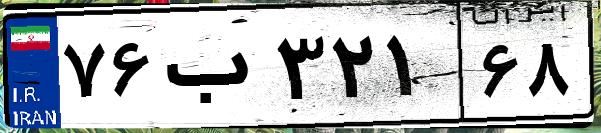1: (385, 28, 445, 110)
2: (330, 28, 385, 110)
3: (270, 28, 330, 110)
6: (475, 38, 525, 113), (110, 28, 158, 98)
7: (57, 26, 110, 100)
8: (525, 38, 570, 115)
ب: (158, 20, 270, 120)
